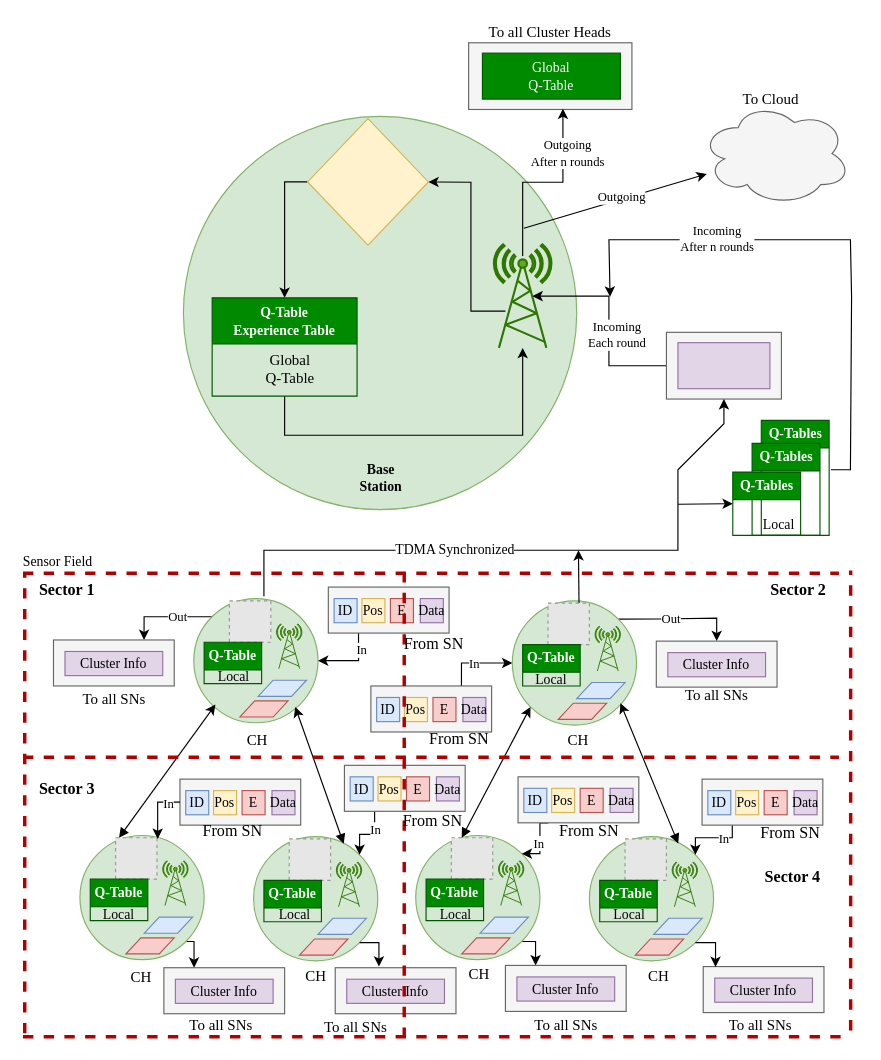
The diagram is 881 pixels wide and 1060 high, and some of its shapes have lost their labels. Grey dashed boxes stand in for pictures. The shapes that lost their labels are listed below. From the top down, each one's centre as x and y in pixels, then its label:
At pixel 775 153: "Data and Q-Table".
At pixel 367 181: "Aggregation Algorithm".
At pixel 723 365: "Sensor DATA".
